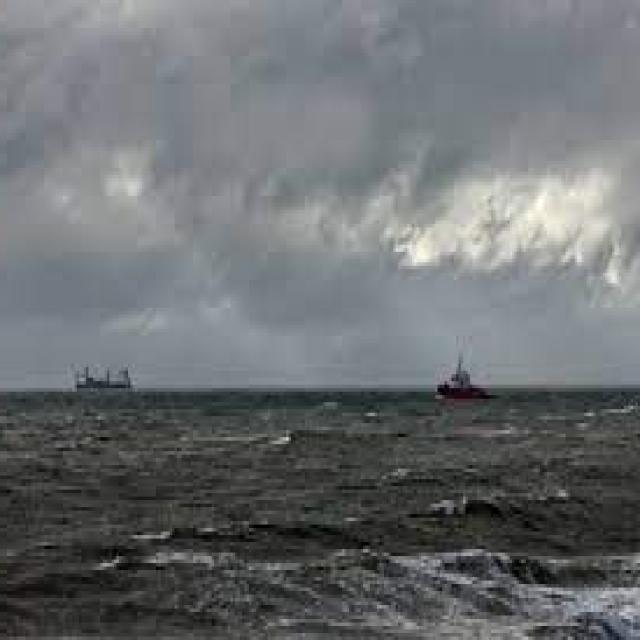fishing boat: (427, 348, 498, 404), (67, 343, 144, 393)
